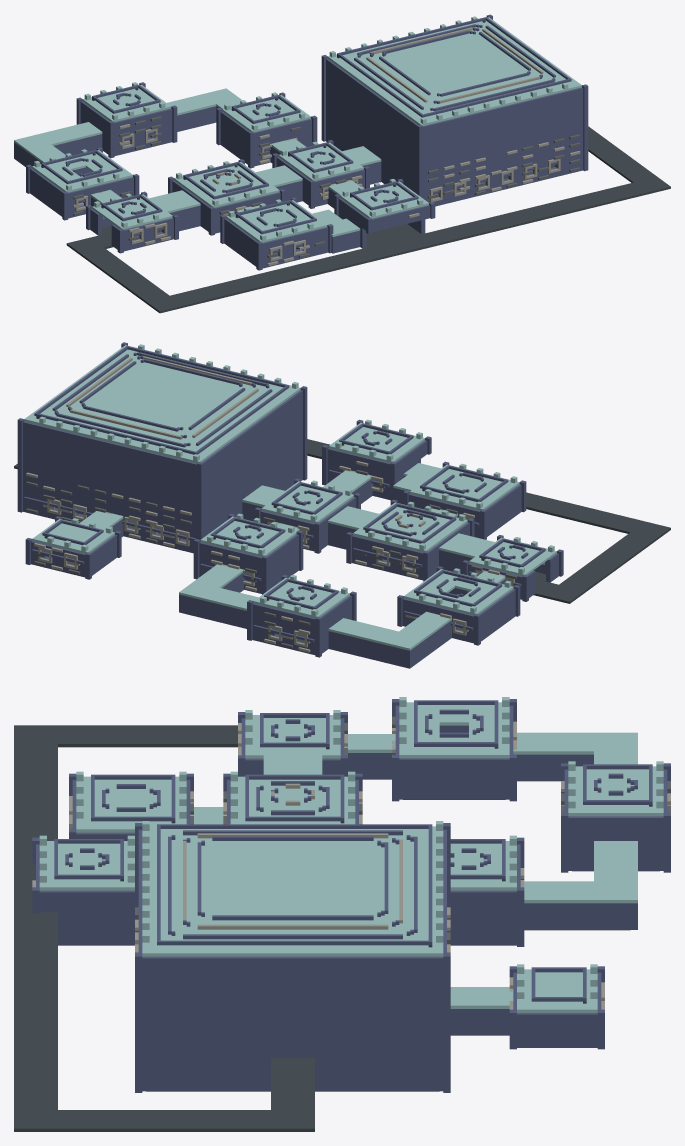
Rendered from inertia_tower.glb.
3 renders of one model, top to bottom at view 1: azimuth 30°, elevation 25°; view 2: azimuth 150°, elevation 25°; view 3: azimuth 270°, elevation 25°, orthographic. The views are drawn at different scales.
Visible parts, largest first — view 1: inertia_tower/room_walls, inertia_tower/roof_arena, inertia_tower/floor_mesh, inertia_tower/exterior_details, inertia_tower/corridor_walls, inertia_tower/roof_workshop, inertia_tower/roof_cistern, inertia_tower/roof_production, inertia_tower/roof_control_gallery, inertia_tower/roof_return_bay, inertia_tower/roof_capacitor_vault, inertia_tower/roof_antechamber (+6 smaller); view 2: inertia_tower/room_walls, inertia_tower/roof_arena, inertia_tower/exterior_details, inertia_tower/floor_mesh, inertia_tower/corridor_walls, inertia_tower/roof_workshop, inertia_tower/roof_cistern, inertia_tower/roof_production, inertia_tower/roof_control_gallery, inertia_tower/roof_capacitor_vault, inertia_tower/roof_return_bay, inertia_tower/roof_antechamber (+11 smaller); view 3: inertia_tower/room_walls, inertia_tower/roof_arena, inertia_tower/floor_mesh, inertia_tower/exterior_details, inertia_tower/corridor_walls, inertia_tower/roof_workshop, inertia_tower/roof_production, inertia_tower/roof_cistern, inertia_tower/roof_capacitor_vault, inertia_tower/roof_return_bay, inertia_tower/roof_entrance, inertia_tower/roof_archive (+8 smaller).
Part boxes in pixels (x1,y1,x2,y2): inertia_tower/room_walls: [30, 58, 583, 268]; inertia_tower/roof_arena: [327, 16, 581, 125]; inertia_tower/floor_mesh: [66, 126, 670, 313]; inertia_tower/exterior_details: [26, 14, 588, 270]; inertia_tower/corridor_walls: [14, 106, 381, 253]; inertia_tower/roof_workshop: [174, 161, 279, 207]; inertia_tower/roof_cistern: [226, 199, 327, 242]; inertia_tower/roof_production: [32, 149, 132, 192]; inertia_tower/roof_control_gallery: [222, 92, 310, 132]; inertia_tower/roof_return_bay: [340, 179, 428, 218]; inertia_tower/roof_capacitor_vault: [82, 82, 171, 122]; inertia_tower/roof_antechamber: [278, 141, 363, 181]; inertia_tower/room_walls: [23, 390, 558, 654]; inertia_tower/roof_arena: [24, 344, 300, 463]; inertia_tower/exterior_details: [17, 342, 563, 657]; inertia_tower/floor_mesh: [14, 439, 670, 636]; inertia_tower/corridor_walls: [112, 476, 505, 668]; inertia_tower/roof_workshop: [353, 501, 467, 552]; inertia_tower/roof_cistern: [410, 463, 519, 510]; inertia_tower/roof_production: [404, 568, 513, 615]; inertia_tower/roof_control_gallery: [200, 513, 296, 556]; inertia_tower/roof_capacitor_vault: [253, 574, 349, 618]; inertia_tower/roof_return_bay: [329, 419, 424, 463]; inertia_tower/roof_antechamber: [261, 480, 353, 523]; inertia_tower/room_walls: [36, 705, 667, 1091]; inertia_tower/roof_arena: [142, 821, 443, 956]; inertia_tower/floor_mesh: [14, 725, 659, 1131]; inertia_tower/exterior_details: [32, 699, 670, 1092]; inertia_tower/corridor_walls: [348, 753, 637, 1035]; inertia_tower/roof_workshop: [230, 771, 355, 824]; inertia_tower/roof_production: [399, 697, 509, 758]; inertia_tower/roof_cistern: [76, 771, 186, 832]; inertia_tower/roof_capacitor_vault: [568, 761, 663, 816]; inertia_tower/roof_return_bay: [39, 835, 134, 890]; inertia_tower/roof_entrance: [245, 710, 340, 758]; inertia_tower/roof_archive: [517, 964, 597, 1012].
Bounding box in the file's own units: 130 × 24 × 89.5.
